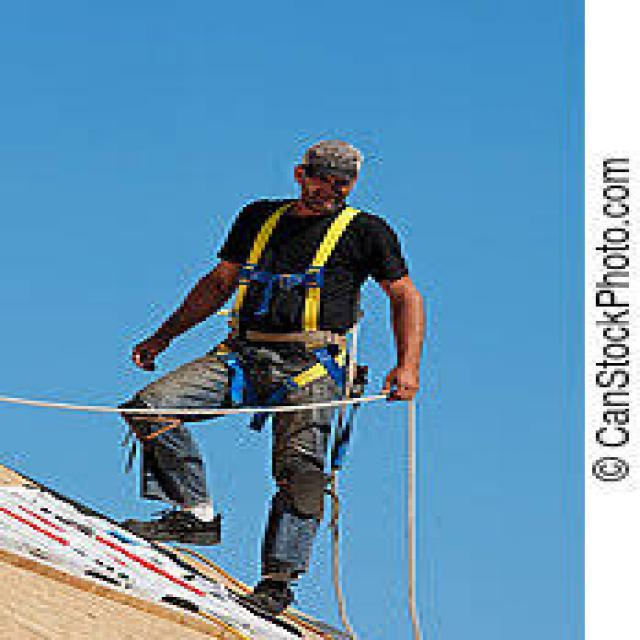belt: (198, 196, 366, 431)
